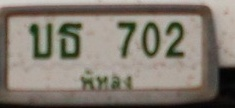txt19: (57, 22, 83, 60)
txt21: (29, 21, 54, 59)
